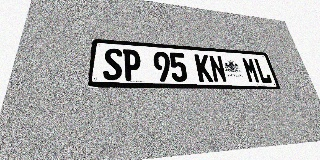5: (169, 52, 188, 82)
9: (153, 51, 172, 81)
K: (194, 54, 213, 82)
L: (253, 58, 273, 83)
M: (241, 57, 261, 83)
N: (208, 55, 228, 83)
P: (123, 49, 141, 81)
S: (103, 48, 122, 80)
